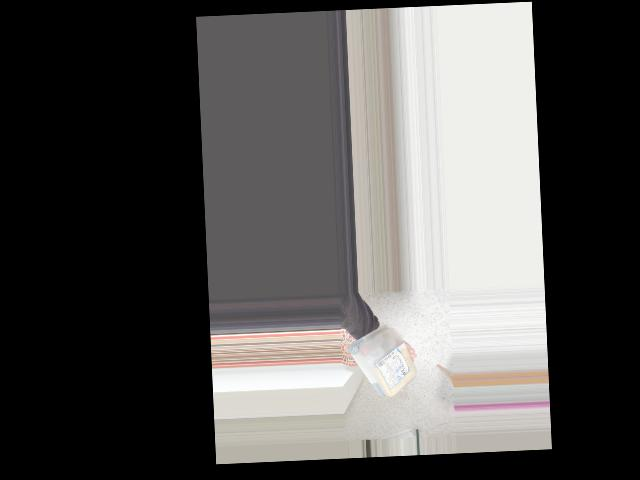cheese: (351, 324, 418, 403)
